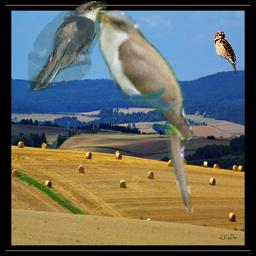Cuckoo: (84, 4, 198, 216), (28, 1, 107, 93)
Swallow: (214, 31, 237, 75)
